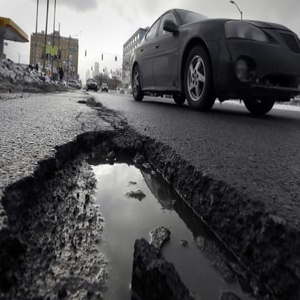pothole: (1, 126, 300, 297)
